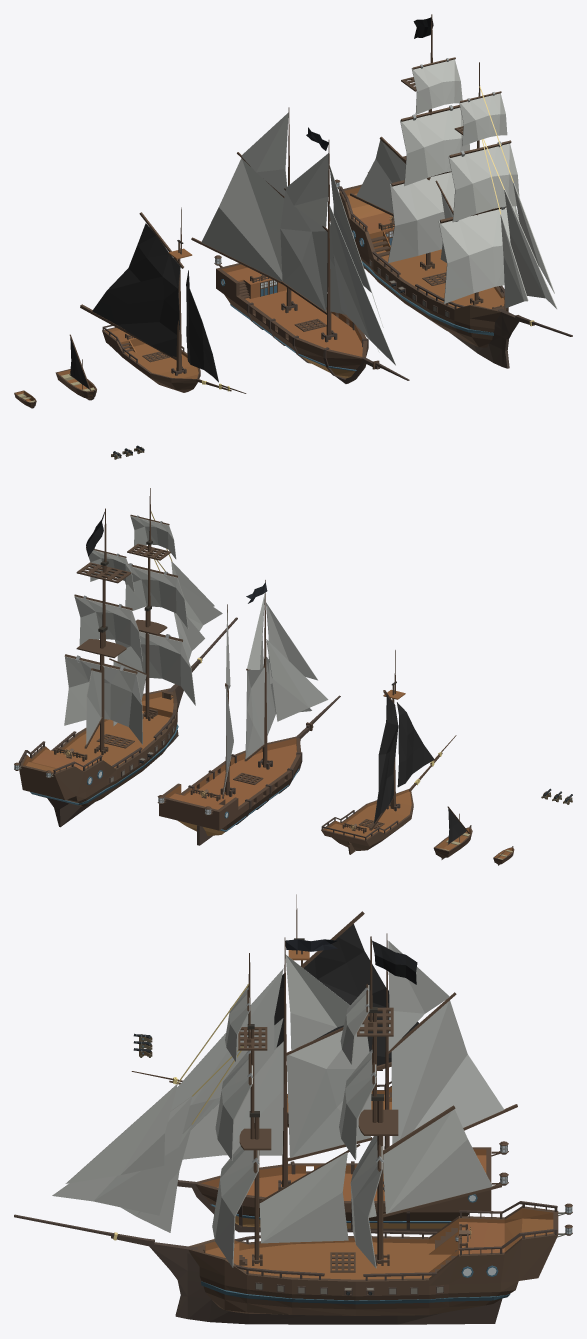
File: Low Poly Pirate Ships.fbx
3 renders of one model, top to bottom at view 1: azimuth 30°, elevation 25°; view 2: azimuth 150°, elevation 25°; view 3: azimuth 270°, elevation 25°, orthographic. The views are drawn at different scales.
Parts seen in each view (by area): view 1: Big_Ship, Vessel, Schooner, Sloop; view 2: Big_Ship, Vessel, Schooner, Sloop; view 3: Big_Ship, Vessel, Schooner.
Part boxes in pixels (x1,y1,x2,y2): Big_Ship: [335, 14, 572, 368]; Vessel: [191, 107, 409, 383]; Schooner: [80, 207, 246, 393]; Sloop: [55, 334, 96, 400]; Big_Ship: [14, 488, 237, 827]; Vessel: [157, 580, 340, 845]; Schooner: [321, 650, 456, 854]; Sloop: [433, 806, 472, 859]; Big_Ship: [14, 936, 572, 1324]; Vessel: [171, 933, 517, 1232]; Schooner: [131, 894, 418, 1127].
Size of the model in its own units: 808 by 506 by 663.
Materials: 1 (1 with a texture image).
